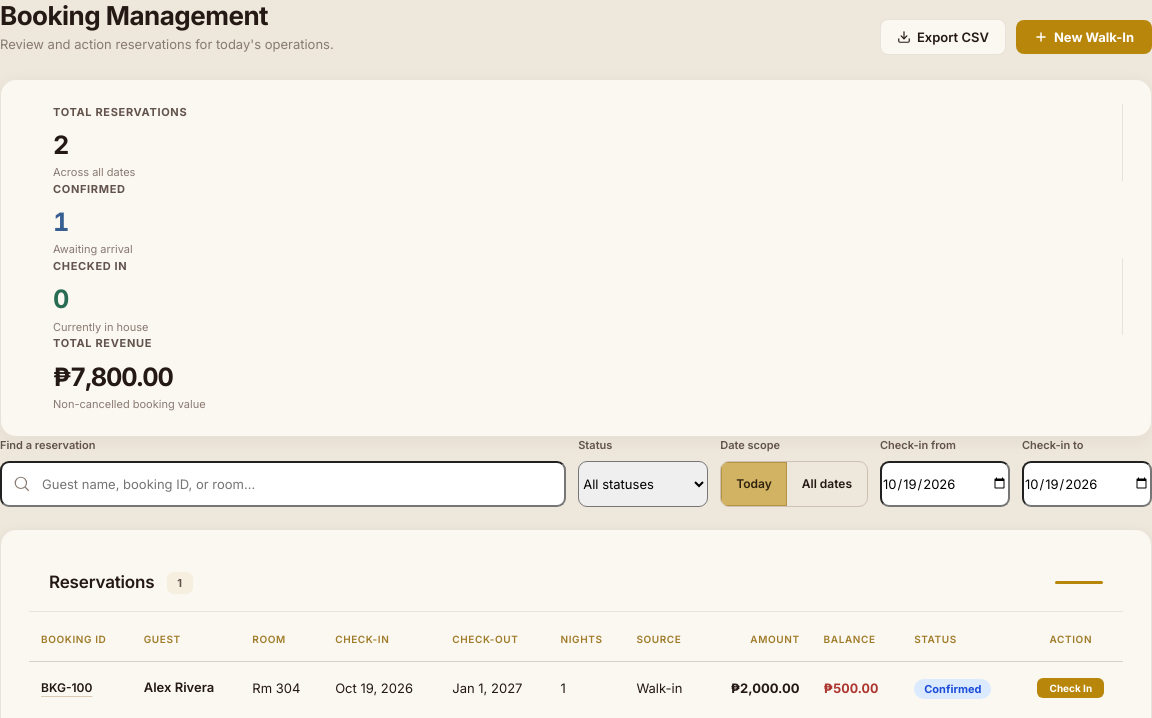
Test case: filters reservations by date scope, trimmed search, room and status
Expected: the button "BKG-100" is shown, [41,676,92,700]
Click the button "All dates": (827, 484) [787,462,867,506]
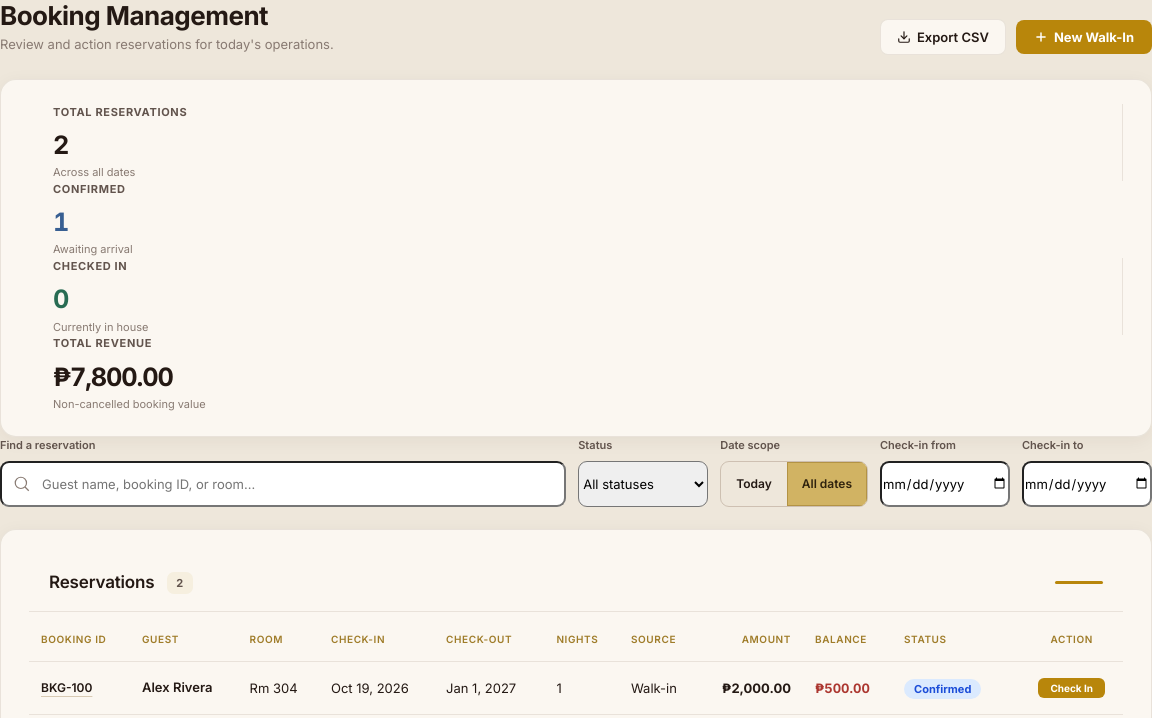
In the search field named "Search reservations": (283, 484) [0,461,566,507], type " 304 "
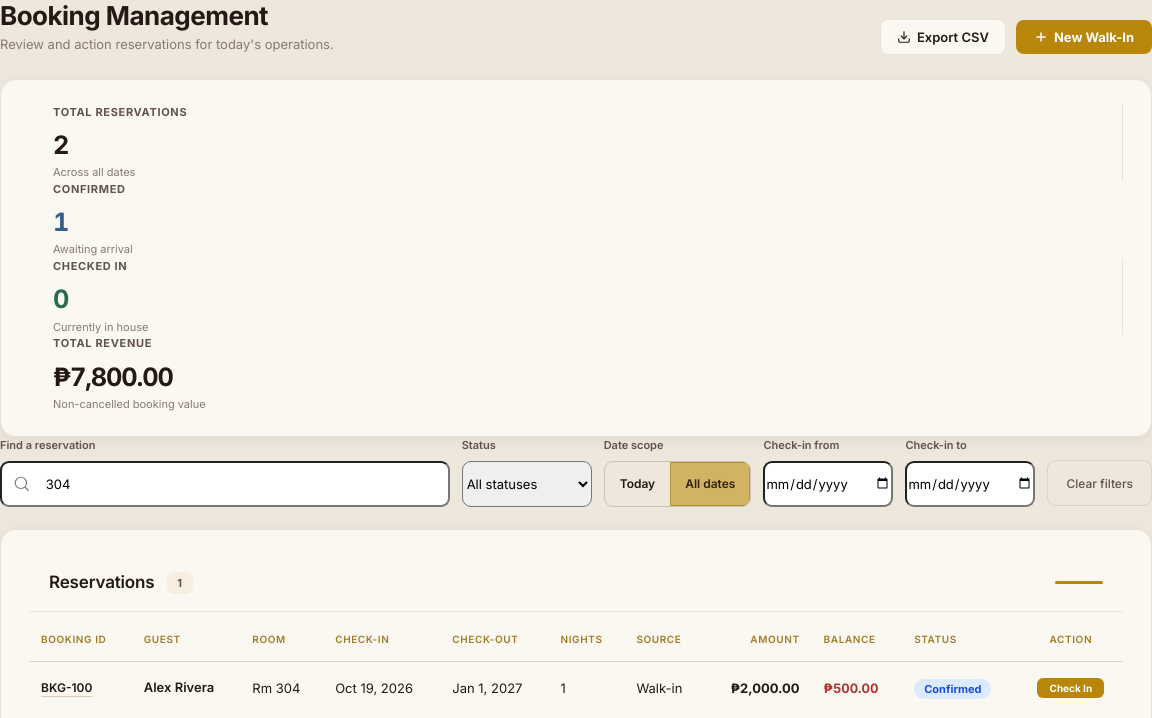
Expected: the button "BKG-100" is shown, [41,676,92,700]
Expected: the cell "BKG-200" is not shown
Select "Checked Out" in the dropdown named "Reservation status": (527, 484) [462,461,592,507]
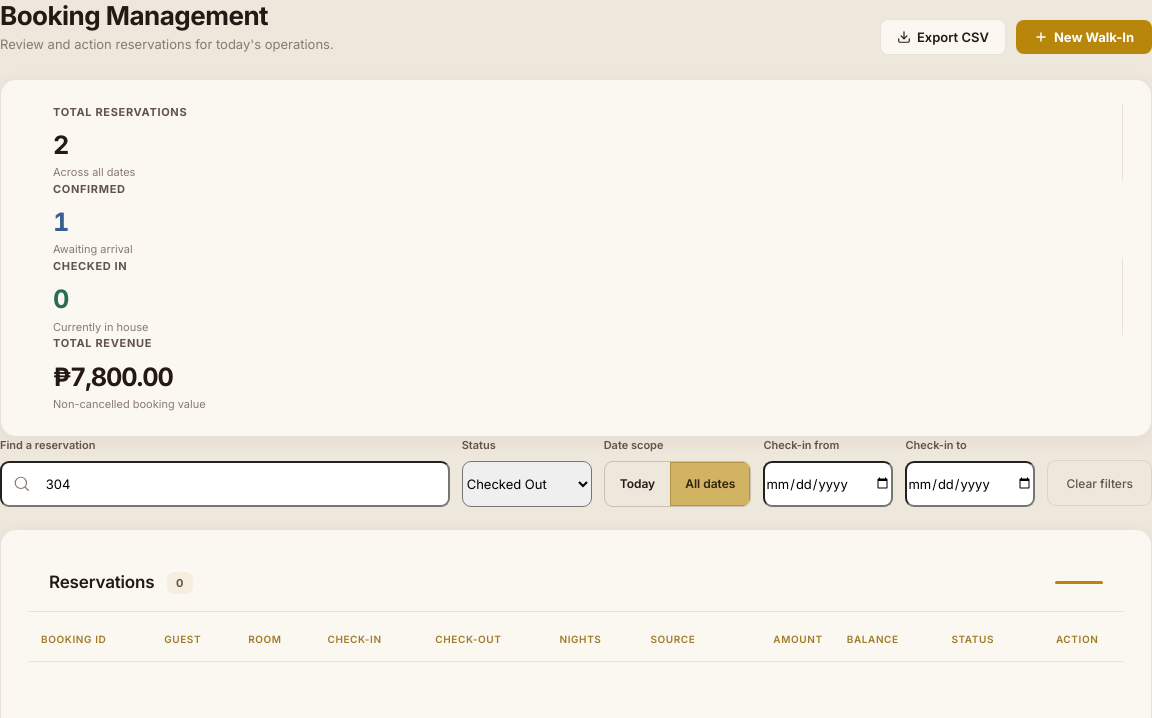
Click the button "Clear filters": (1100, 483) [1047,460,1151,506]
(page scrolled)
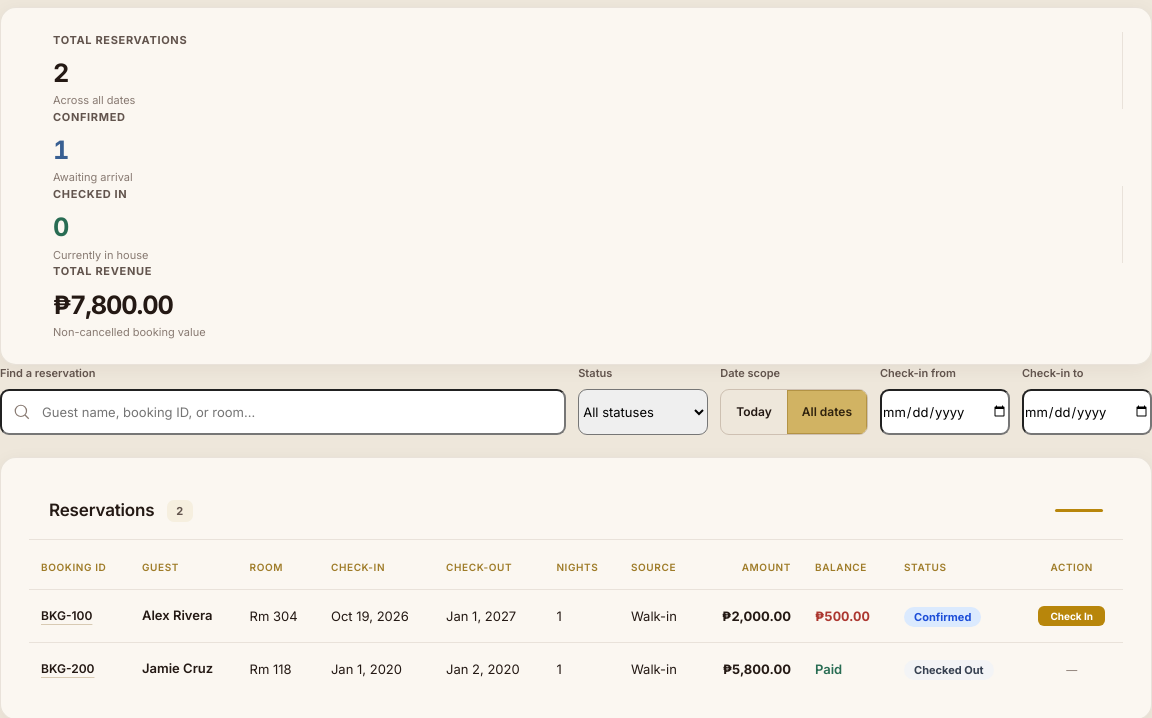
Result: the button "BKG-200" is shown at [41,657,94,681]
